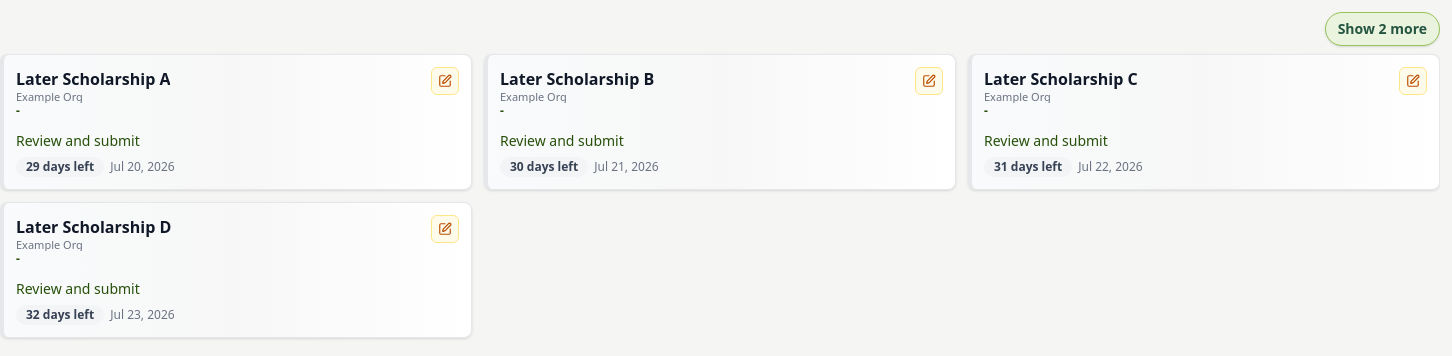
ActionFeed › previews long later groups and expands on request
The width and height of the screenshot is (1452, 356).
Expected: the text "Later Scholarship A" is shown, [16,67,170,91]
Expected: the text "Later Scholarship D" is shown, [16,215,171,239]
Step 1. Click the button "Show 2 more" → [1382, 29], box [1325,12,1440,46]
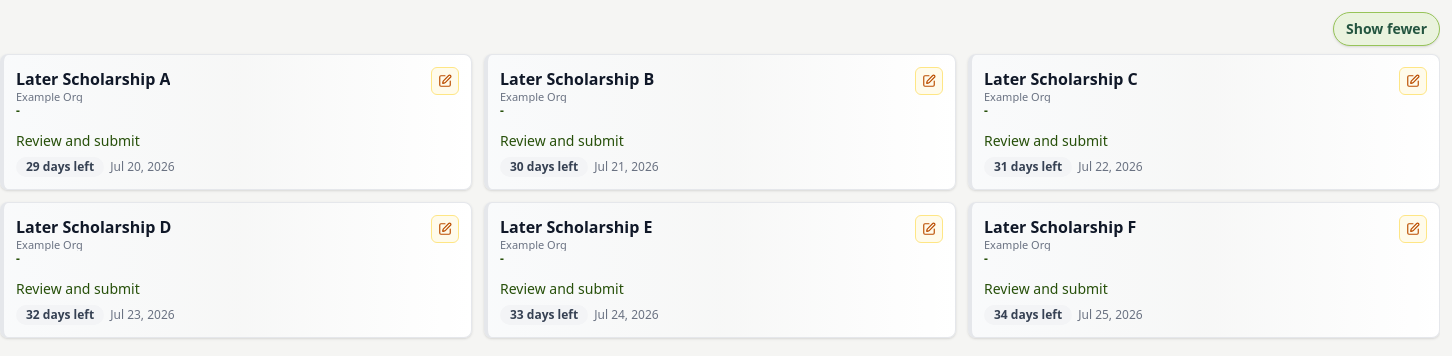
Expected: the text "Later Scholarship E" is shown, [500,215,652,239]
Expected: the text "Later Scholarship F" is shown, [984,215,1136,239]
Expected: the button "Show fewer" is shown, [1333,12,1440,46]
